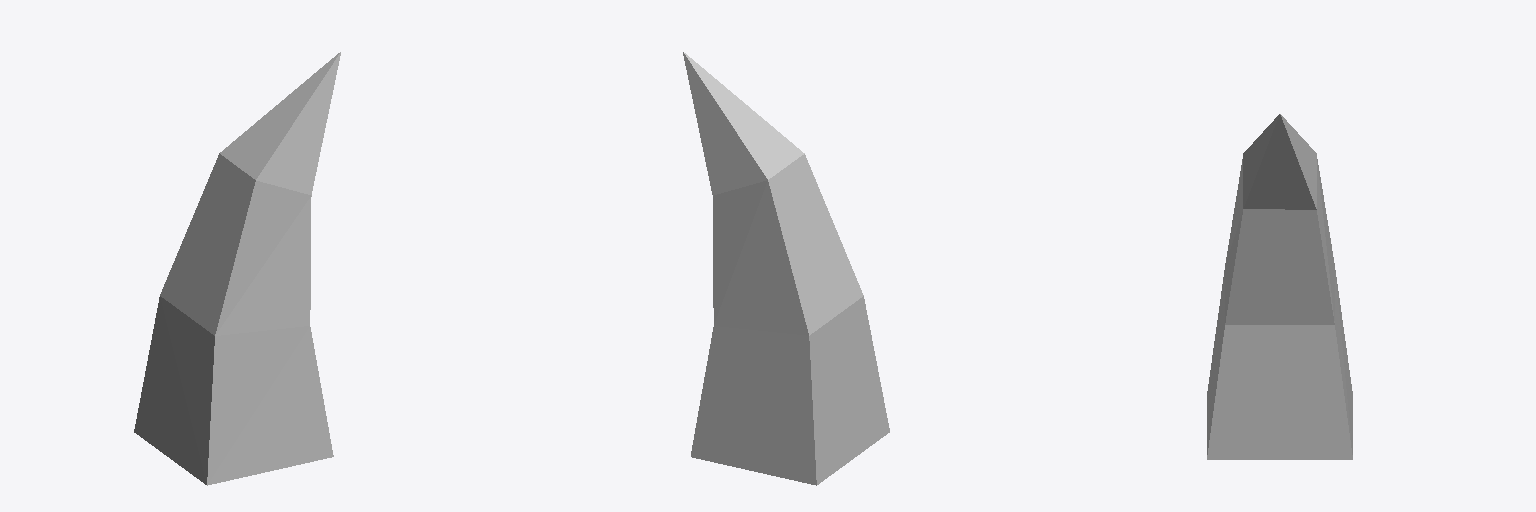
File: skeletal_000036.obj
3 renders of one model, left to right at view 1: azimuth 30°, elevation 25°; view 2: azimuth 150°, elevation 25°; view 3: azimuth 270°, elevation 25°, orthographic.
Visible parts, largest first — view 1: Cube; view 2: Cube; view 3: Cube.
Boxes of the visible parts, <box> form: Cube: <box>134,52,340,485</box>; Cube: <box>683,52,889,485</box>; Cube: <box>1207,114,1352,459</box>.
Size of the model in its own units: 2.7 by 5.56 by 2.